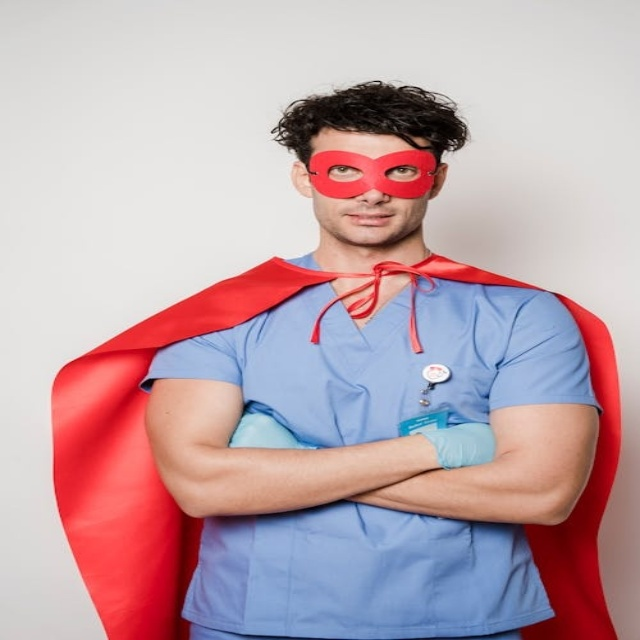Guantes: (229, 406, 324, 450), (409, 422, 496, 469)
Sin_mascara: (330, 206, 401, 244)
